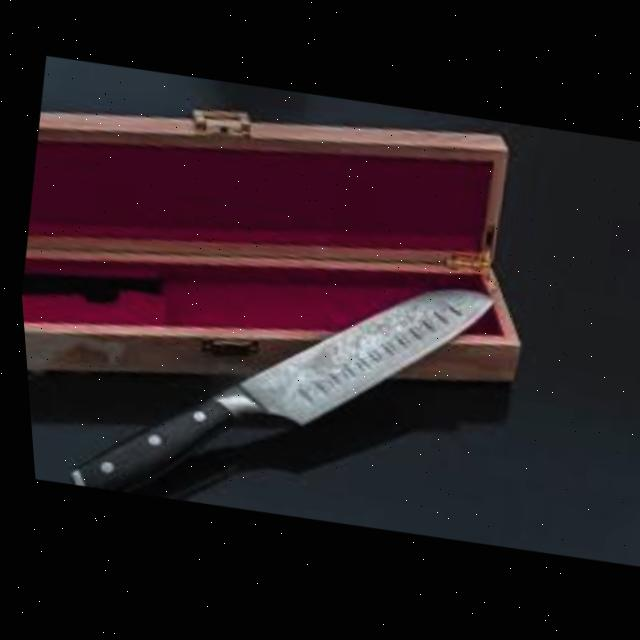Knife: (47, 220, 507, 553)
